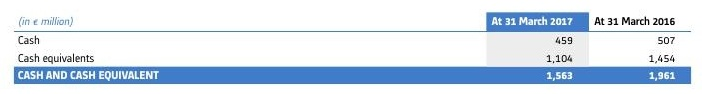table: (0, 0, 702, 94)
